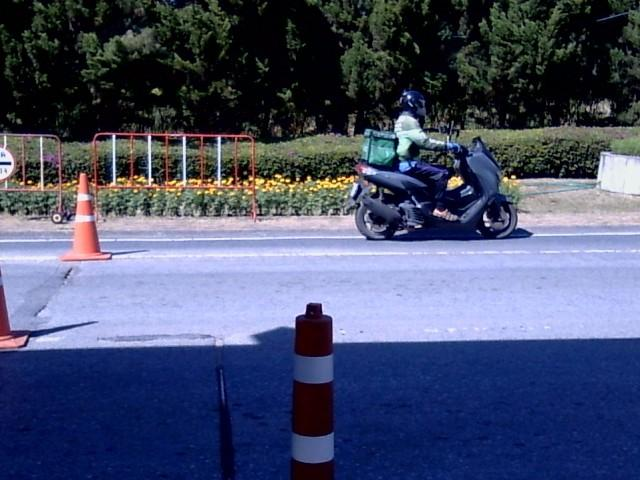helmet: (399, 90, 425, 116)
motor: (345, 137, 515, 238)
person: (394, 90, 463, 221)
